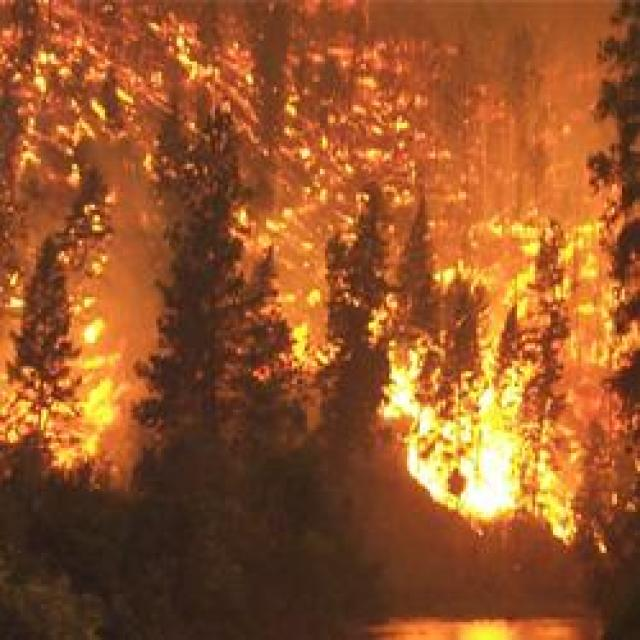fire: (343, 230, 588, 538)
